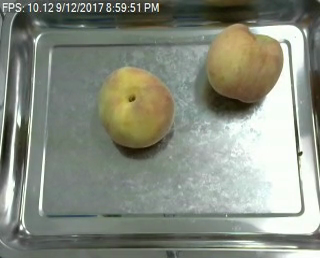Peach: (98, 65, 175, 149), (206, 23, 283, 104)
